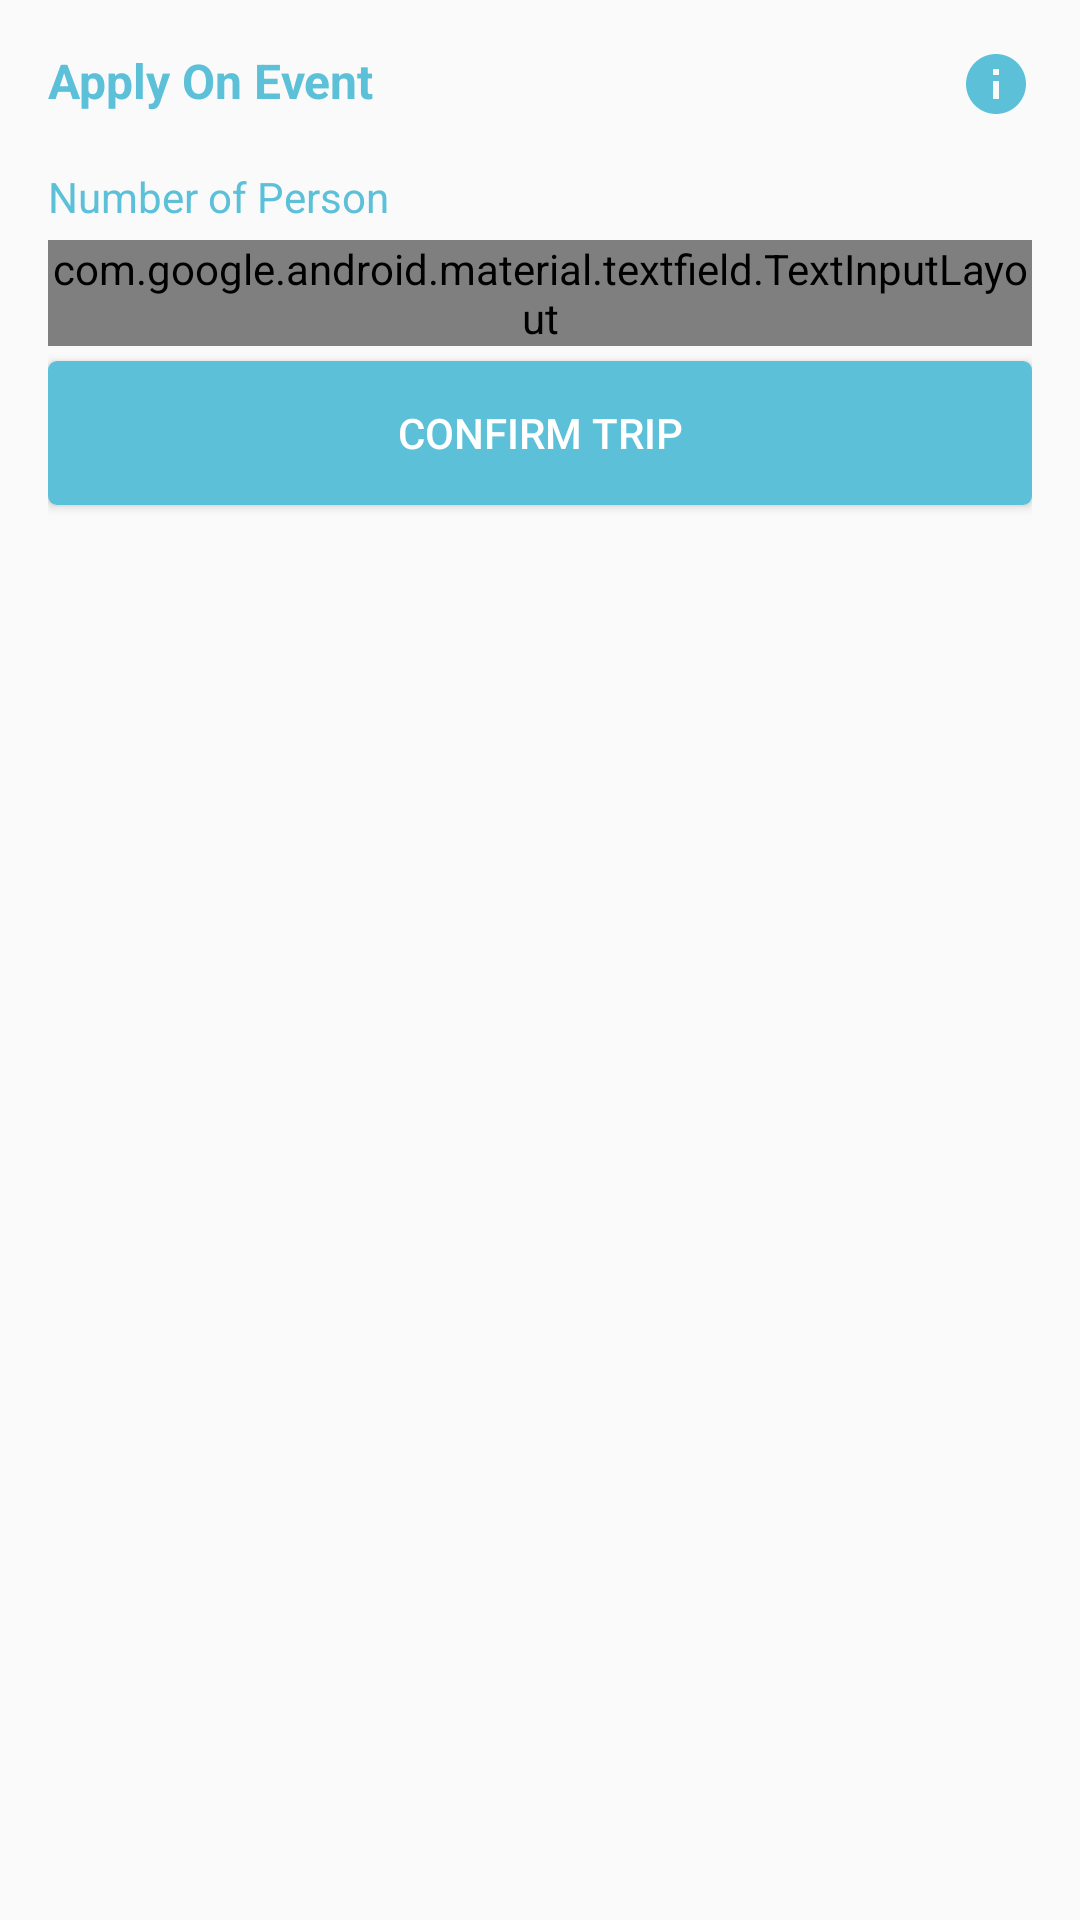

Where to tap for icons on this 1080px x 1920px app screen, as (x,y):
info: (996,84)
